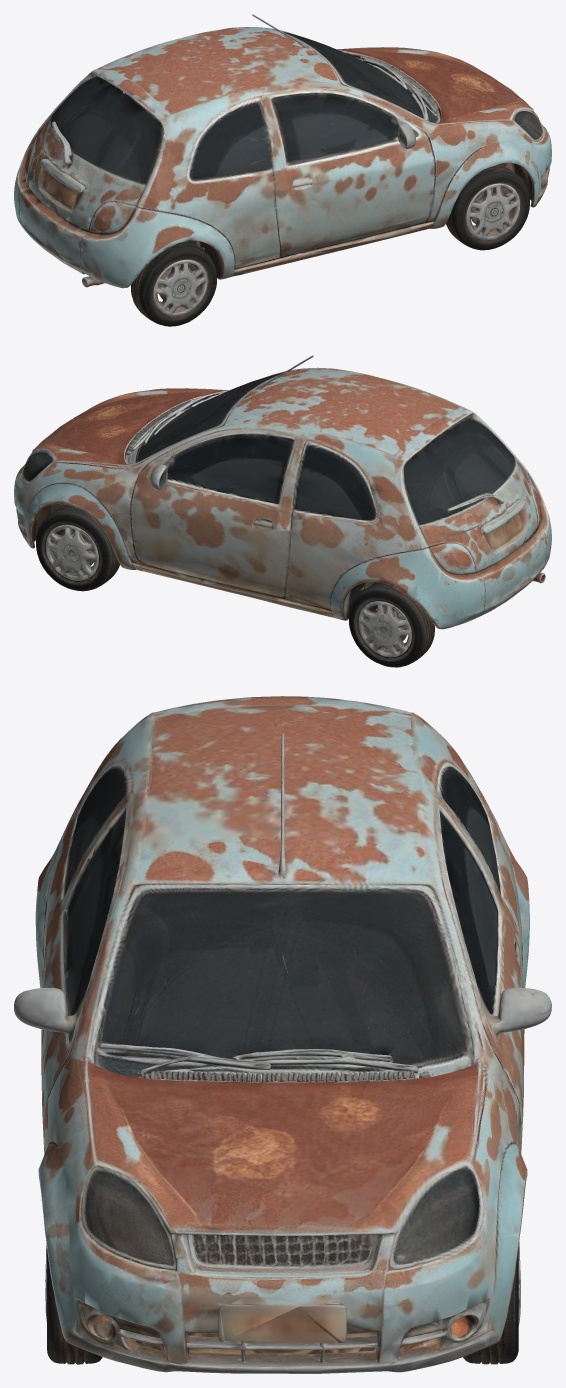
The model's file is sagui-abandonado__01a16c1c.glb.
The picture shows the model from 3 angles, top to bottom: view 1: azimuth 30°, elevation 25°; view 2: azimuth 150°, elevation 25°; view 3: azimuth 270°, elevation 25°; orthographic projection. The views are drawn at different scales.
Parts seen in each view (by area): view 1: sagui-abandonado; view 2: sagui-abandonado; view 3: sagui-abandonado.
Boxes of the visible parts, x1,y1,x2,y2 form: sagui-abandonado: (14,14,551,326); sagui-abandonado: (14,355,551,667); sagui-abandonado: (14,696,551,1373).
Size of the model in its own units: 3.84 by 1.8 by 1.94.
Materials: 1 (1 with a texture image).
